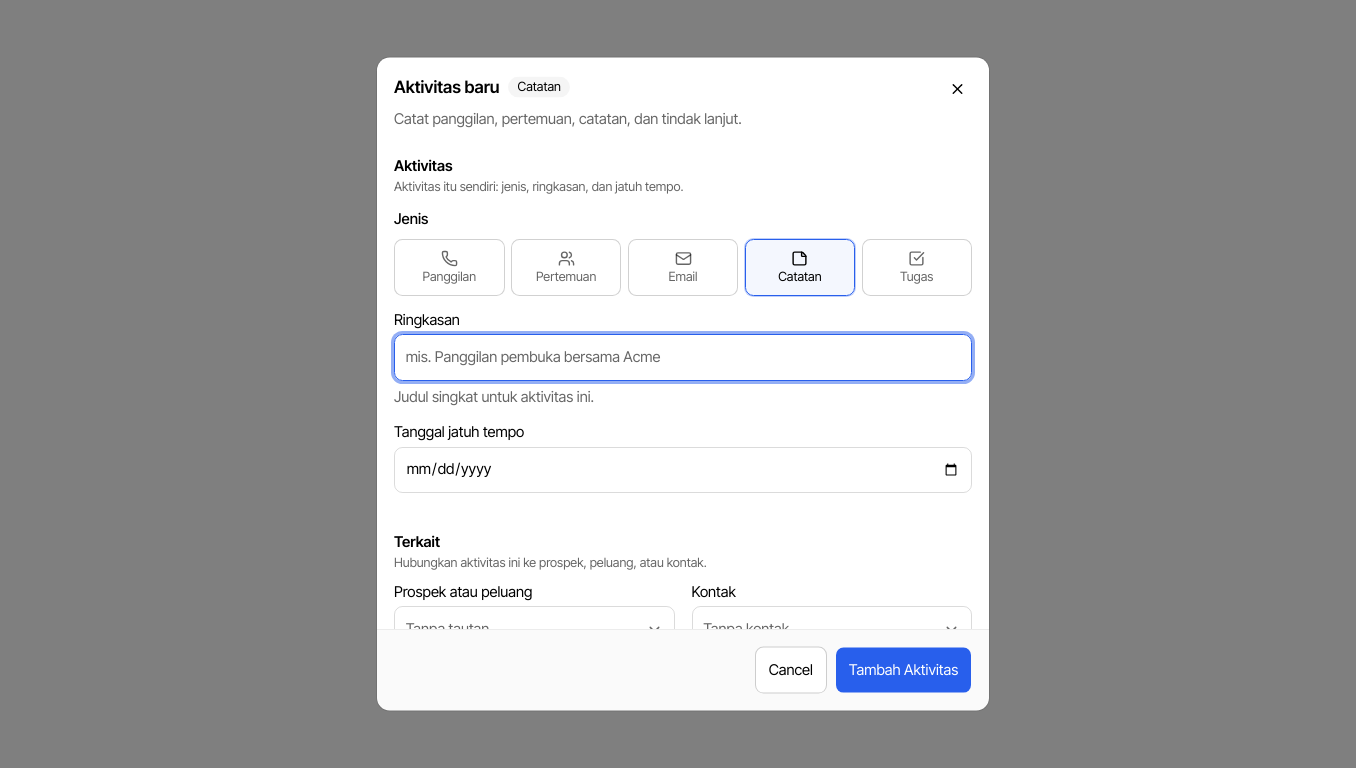
ActivityFormDialog branches › lists leads and opportunities together
Expected: the heading "Aktivitas" is shown, [394,156,452,174]
Click the dropdown named "Prospek atau peluang": (447, 628) [394,606,674,652]
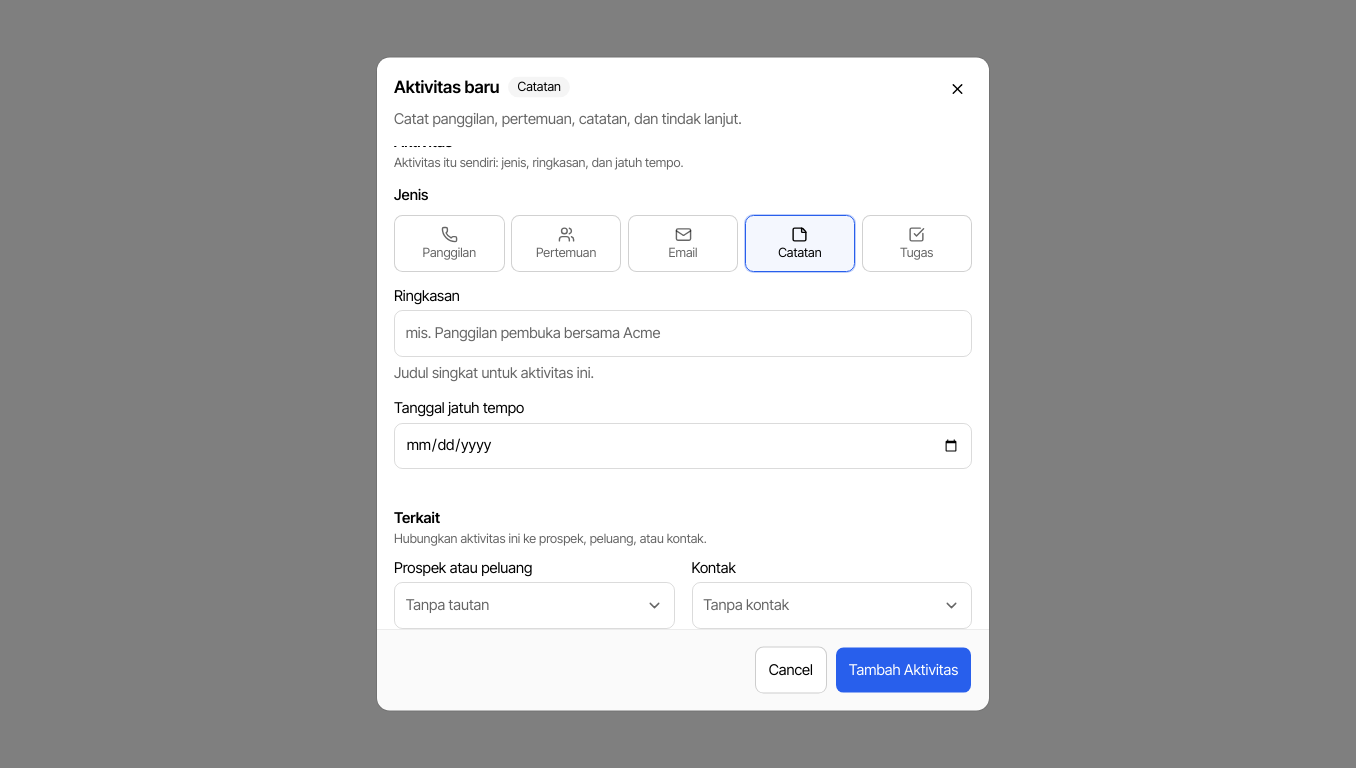
Now the option "Big Lead" is shown, box [400,498,456,516]
Now the option "Hot Deal" is shown, box [400,544,456,562]
